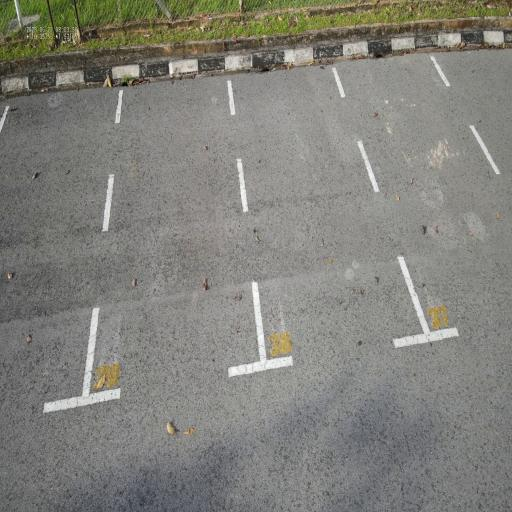Empty: (223, 60, 439, 378), (78, 53, 268, 412)
